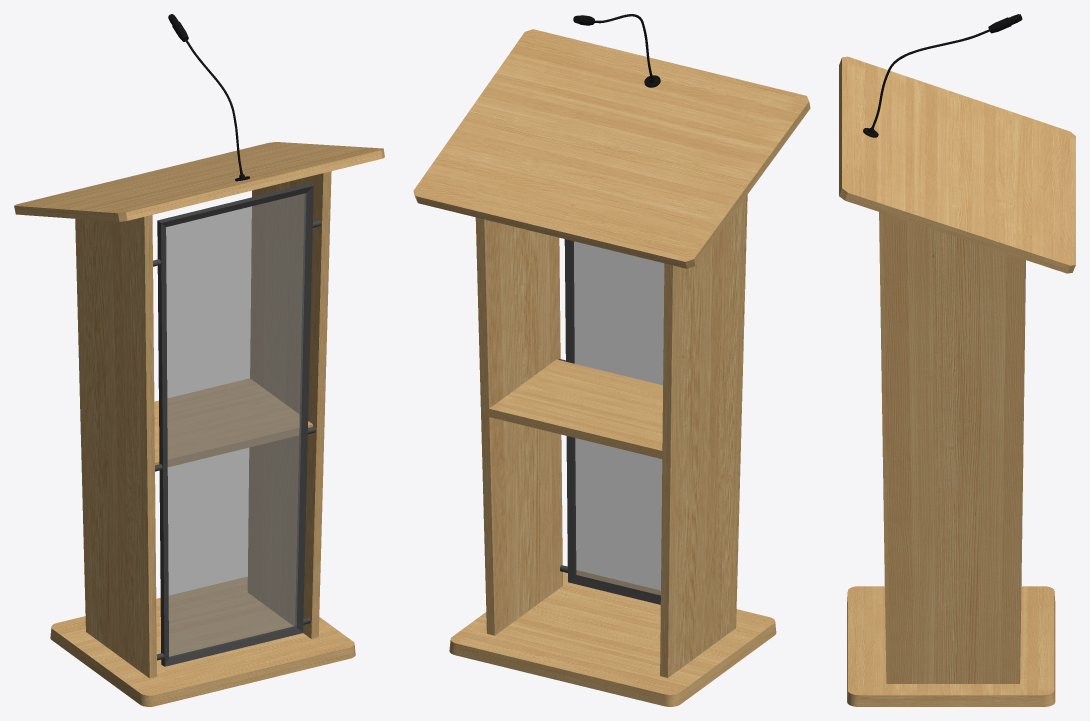
File: Presidential podium 4.fbx
3 views of the same model, side by side, from view 1: azimuth 30°, elevation 25°; view 2: azimuth 150°, elevation 25°; view 3: azimuth 270°, elevation 25° (orthographic). The views are drawn at different scales.
Parts seen in each view (by area): view 1: Presidential podium 4; view 2: Presidential podium 4; view 3: Presidential podium 4.
Part boxes in pixels (x1=…): Presidential podium 4: x1=14, y1=14, x2=384, y2=706; Presidential podium 4: x1=413, y1=14, x2=810, y2=706; Presidential podium 4: x1=839, y1=14, x2=1075, y2=706.
Size of the model in its own units: 25.56 by 55.86 by 18.79.
Materials: 4 (2 with a texture image).
